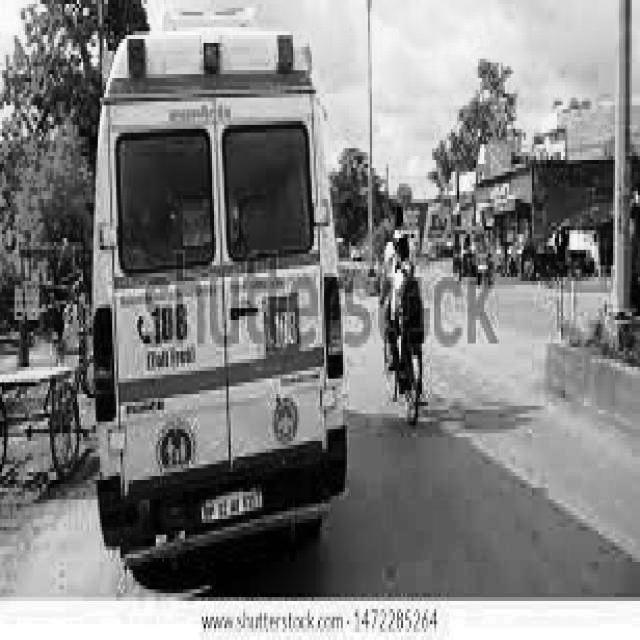LCV: (95, 35, 342, 549)
